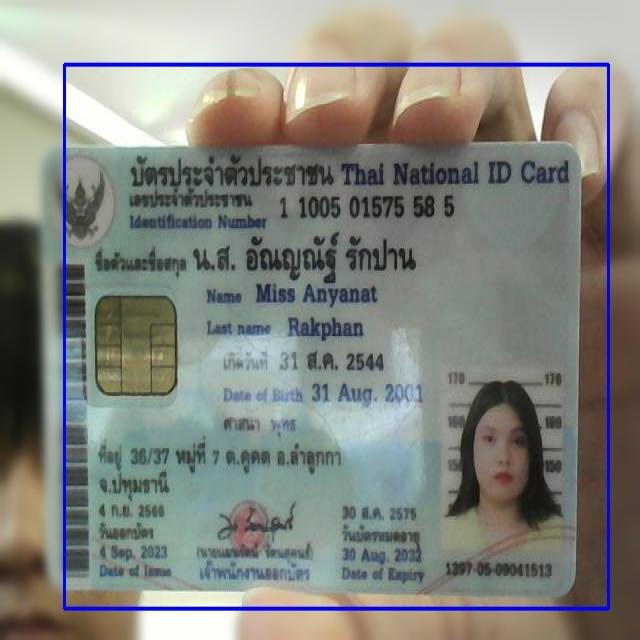Address_th: (96, 430, 350, 504)
Date_of_Birth: (309, 377, 425, 412)
Date_of_Expiry: (338, 542, 425, 567)
Date_of_Issue: (97, 541, 176, 563)
First_Name: (252, 279, 380, 310)
ID_Number: (275, 187, 465, 228)
Image: (442, 362, 567, 562)
Last_Name: (284, 312, 367, 345)
Thai_Name: (191, 226, 422, 287)
